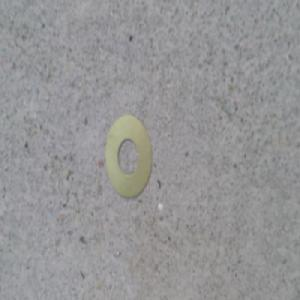Washer: (103, 110, 153, 196)
